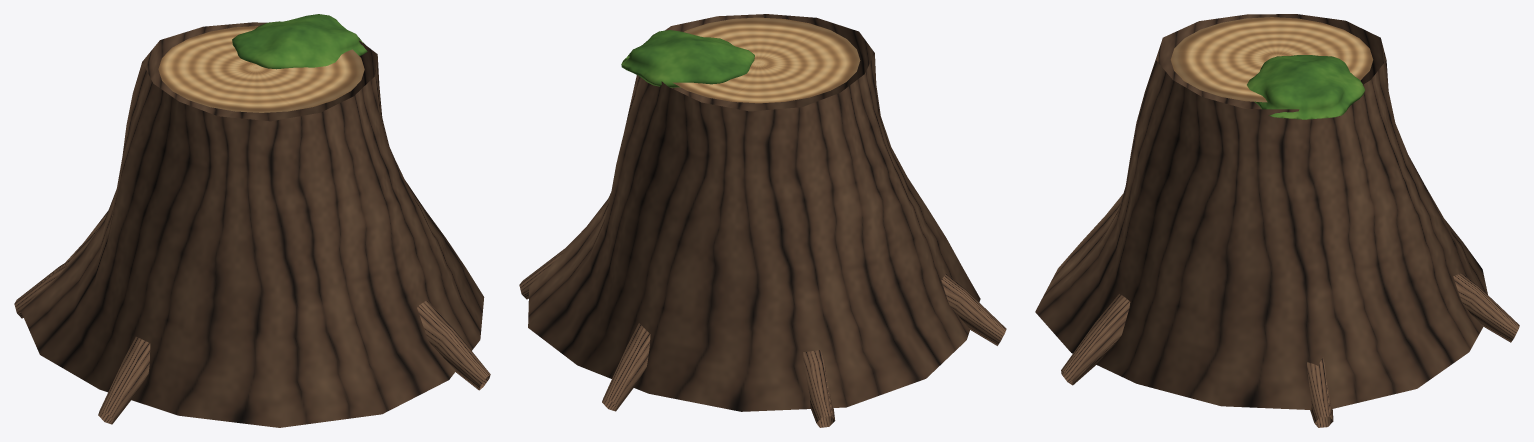
Rendered from taiga_stump.glb.
3 views of the same model, side by side, from view 1: azimuth 30°, elevation 25°; view 2: azimuth 150°, elevation 25°; view 3: azimuth 270°, elevation 25° (orthographic).
Parts seen in each view (by area): view 1: bark_stump, wood_end, moss; view 2: bark_stump, wood_end, moss; view 3: bark_stump, wood_end, moss.
Boxes of the visible parts, left/top/right/bottom form: bark_stump: left=14, top=22, right=490, bottom=427; wood_end: left=158, top=26, right=364, bottom=112; moss: left=232, top=14, right=367, bottom=69; bark_stump: left=519, top=14, right=1006, bottom=427; wood_end: left=672, top=17, right=860, bottom=103; moss: left=621, top=30, right=754, bottom=87; bark_stump: left=1035, top=14, right=1519, bottom=427; wood_end: left=1170, top=17, right=1373, bottom=102; moss: left=1247, top=55, right=1364, bottom=119.
Size of the model in its own units: 1.46 by 0.963 by 1.48.
3 materials, 3 textured.
